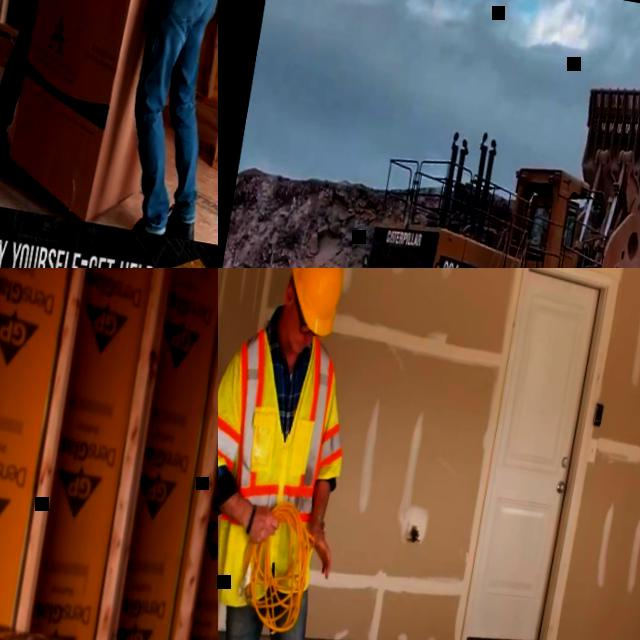helmet: (279, 268, 352, 336)
machinery: (275, 11, 640, 268)
no_mask: (282, 311, 310, 357)
person: (218, 268, 410, 640), (92, 0, 218, 241), (0, 0, 145, 181)
vest: (218, 320, 364, 536)
